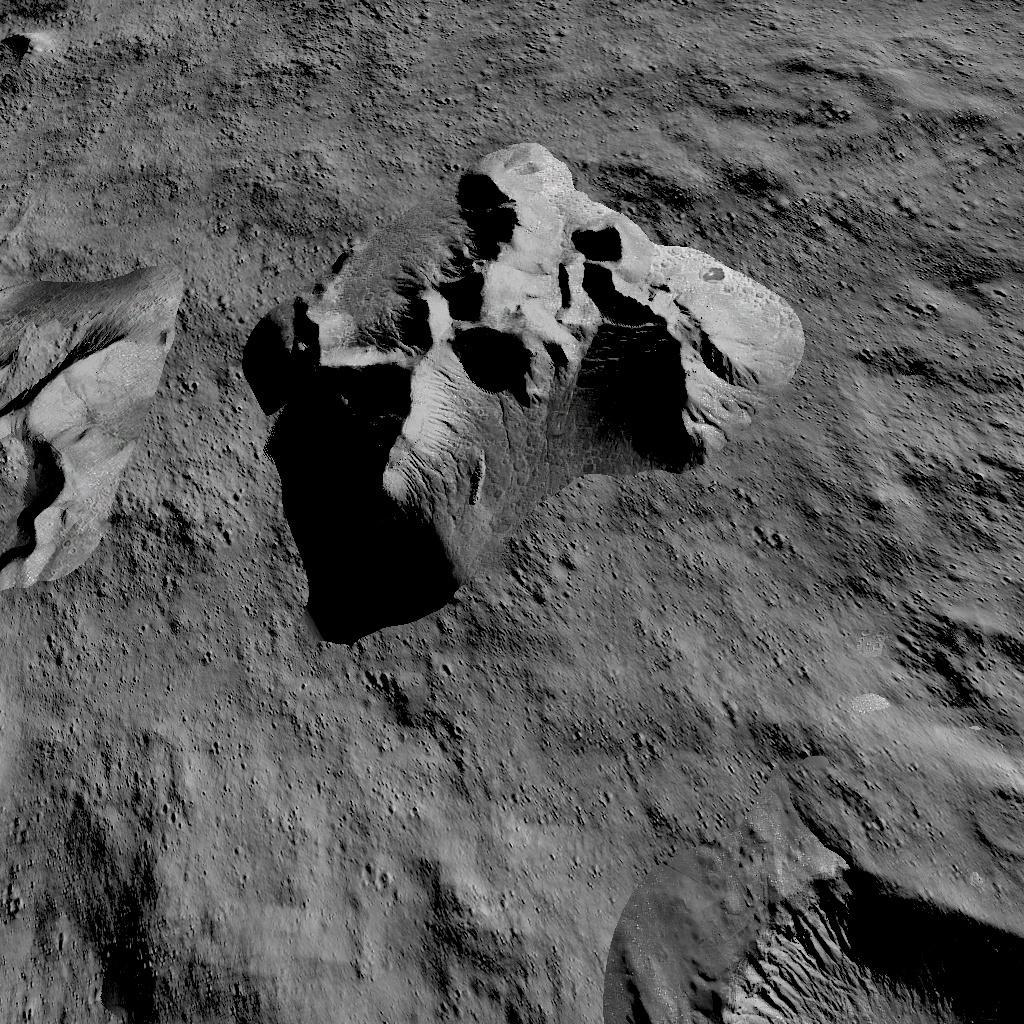Boulders: (236, 124, 808, 640), (0, 246, 192, 588)
Crater: (647, 843, 1024, 1024), (909, 586, 1024, 727), (94, 914, 188, 1022), (0, 24, 46, 77)
Plan surface: (214, 656, 632, 1024), (827, 119, 1024, 554), (233, 0, 1024, 99), (7, 606, 198, 886), (656, 657, 884, 815), (54, 0, 211, 224)
